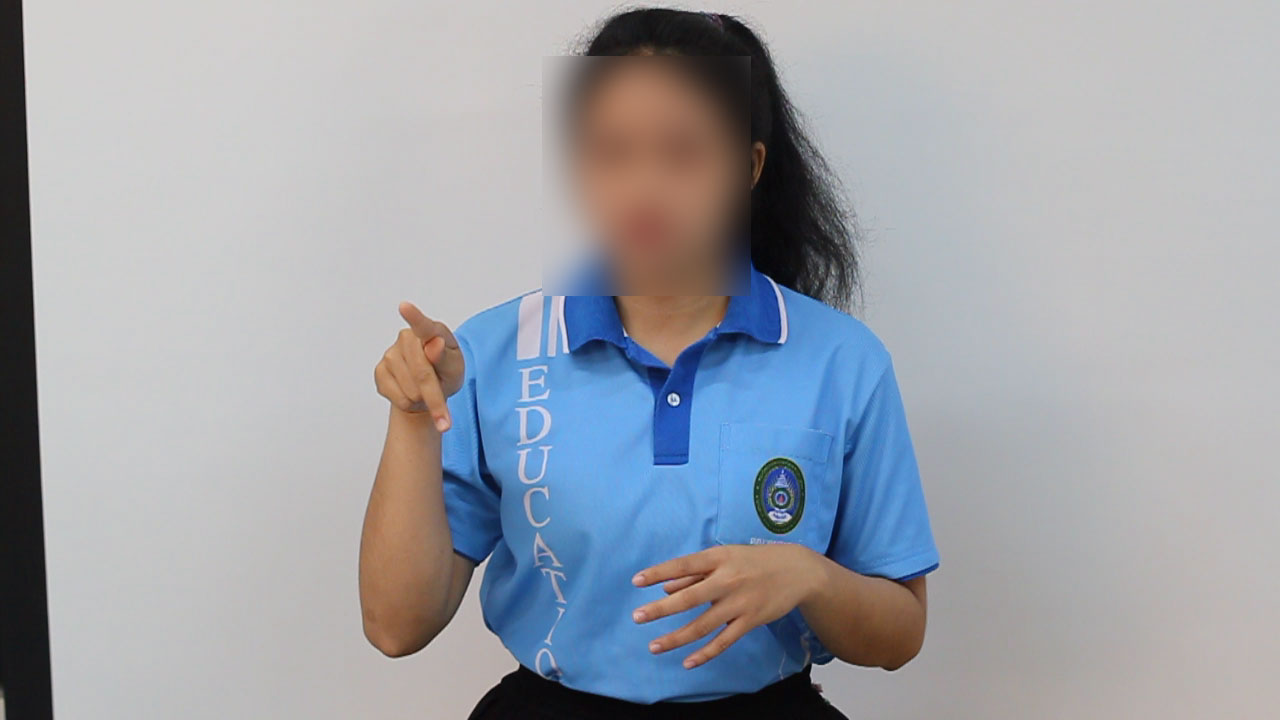por: (360, 285, 479, 445)
